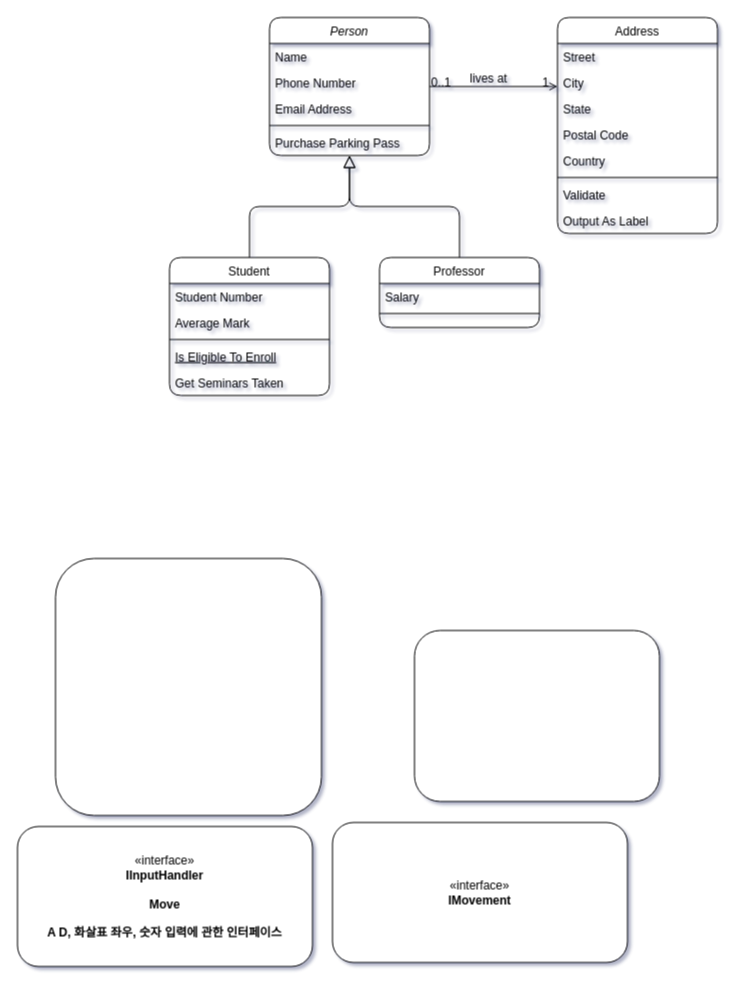
This 741x990 diagram has some shape labels left out. The centre of each missing label's shape, as x and y in pixels:
Class: the point at 537,716
나무 나무는 현재 좌우로 이동할 수 있으며 움직일 수 있음 그리고 현재 조작방식에 따라서 움직임는 방법도 달라질 수 있음: the point at 188,687
